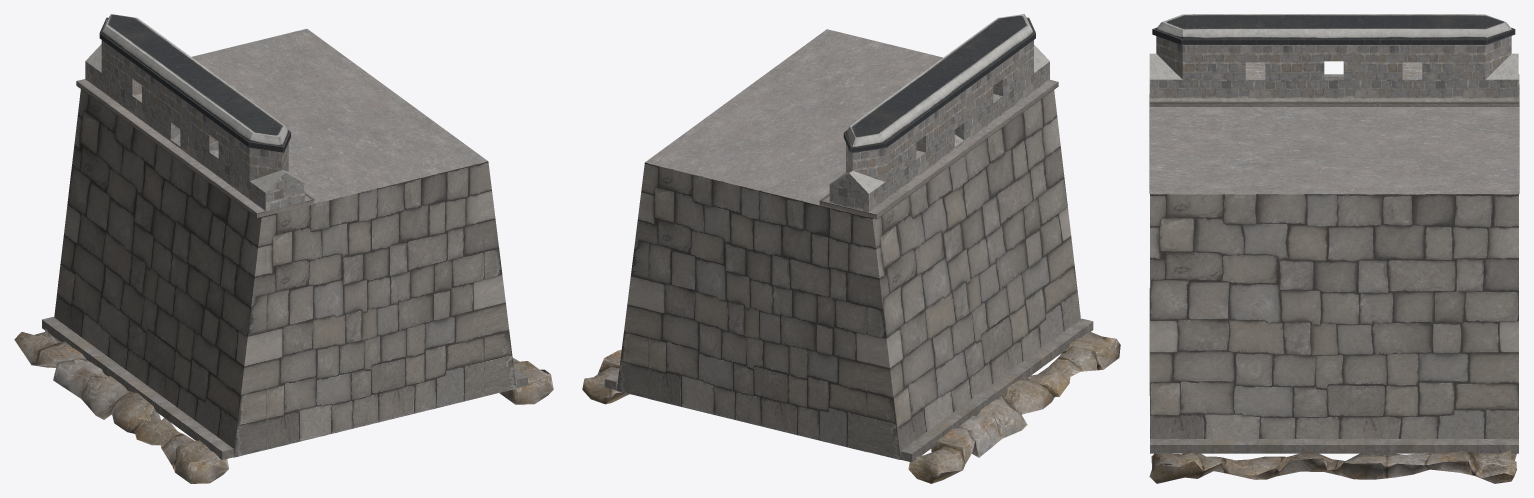
File: SM_CastleWallCombined.fbx
The picture shows the model from 3 angles, left to right: view 1: azimuth 30°, elevation 25°; view 2: azimuth 150°, elevation 25°; view 3: azimuth 270°, elevation 25°; orthographic projection. The views are drawn at different scales.
Visible parts, largest first — view 1: SM_CastleWallCombined; view 2: SM_CastleWallCombined; view 3: SM_CastleWallCombined.
Part boxes in pixels (box(x1,y1,x2,y2)): SM_CastleWallCombined: box(14, 14, 553, 483); SM_CastleWallCombined: box(582, 14, 1120, 483); SM_CastleWallCombined: box(1149, 14, 1519, 483).
Bounding box in the file's own units: 910 × 785 × 786.
Materials: 4 (4 with a texture image).
